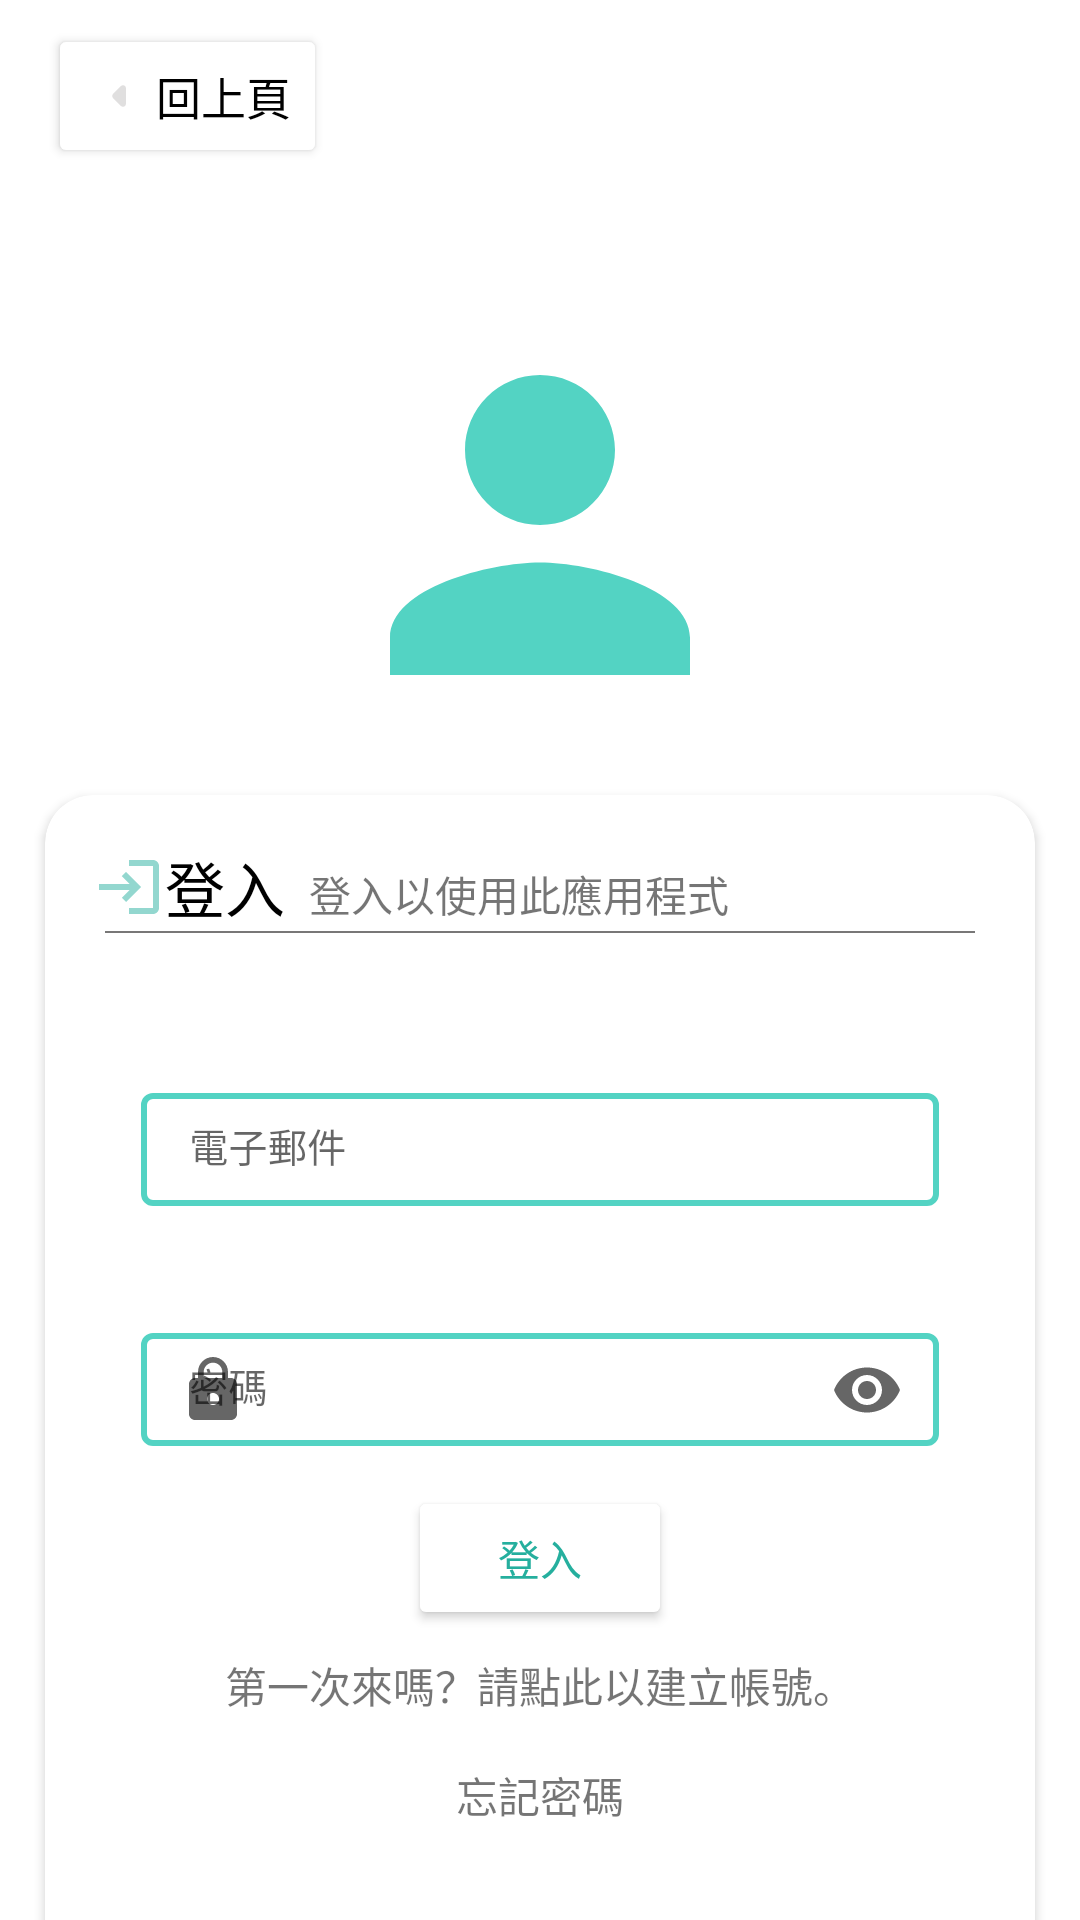

Where icons sit on this 1080*1920 app screen, as (x1, y1, x2, y2):
person: (390, 375, 690, 675)
